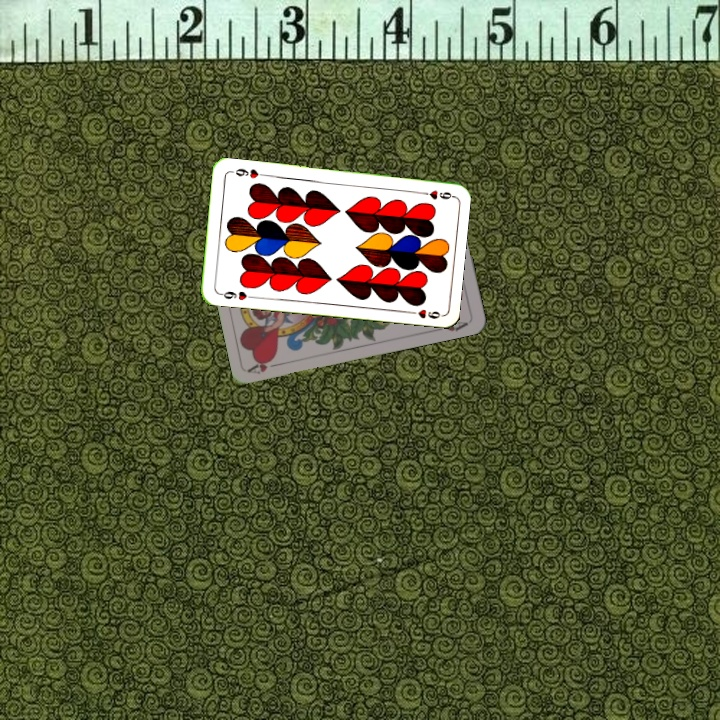H9: (414, 186, 455, 202), (215, 287, 255, 303)
HA: (246, 353, 286, 376)
